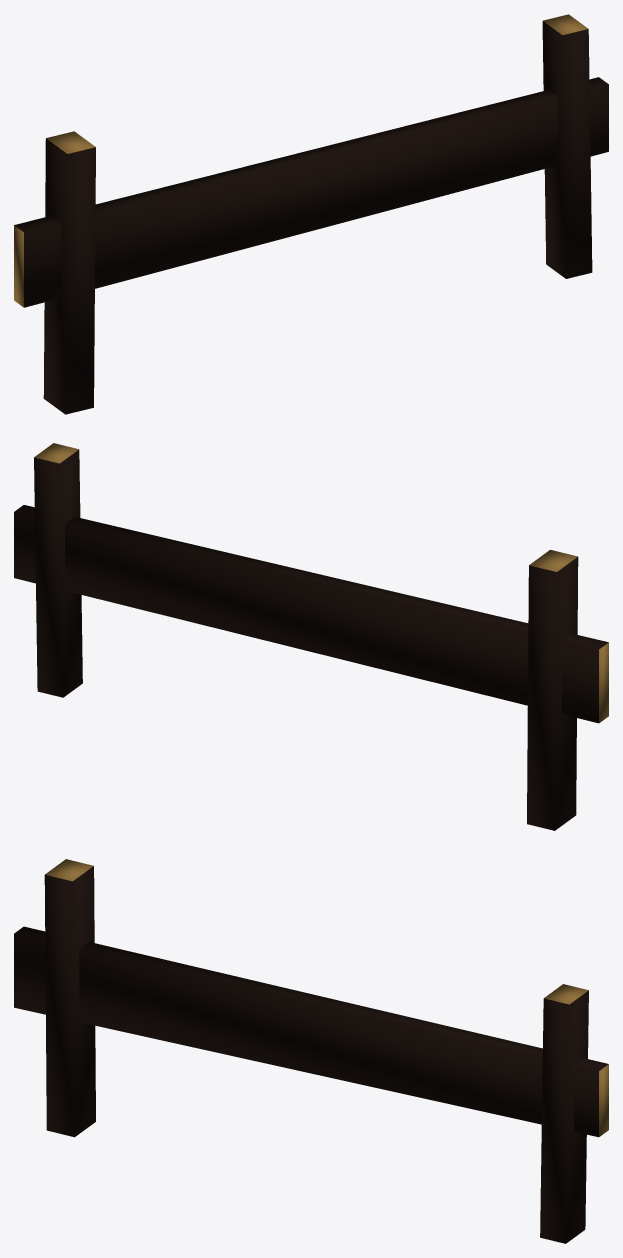
Rendered from Paling_b.FBX.
3 renders of one model, top to bottom at view 1: azimuth 30°, elevation 25°; view 2: azimuth 150°, elevation 25°; view 3: azimuth 330°, elevation 25°, orthographic.
Visible parts, largest first — view 1: Paling01_b; view 2: Paling01_b; view 3: Paling01_b.
Part boxes in pixels (x1=…): Paling01_b: x1=14, y1=14, x2=608, y2=414; Paling01_b: x1=14, y1=443, x2=608, y2=830; Paling01_b: x1=14, y1=859, x2=608, y2=1243.
Bounding box in the file's own units: 216 × 91.69 × 16.82.
